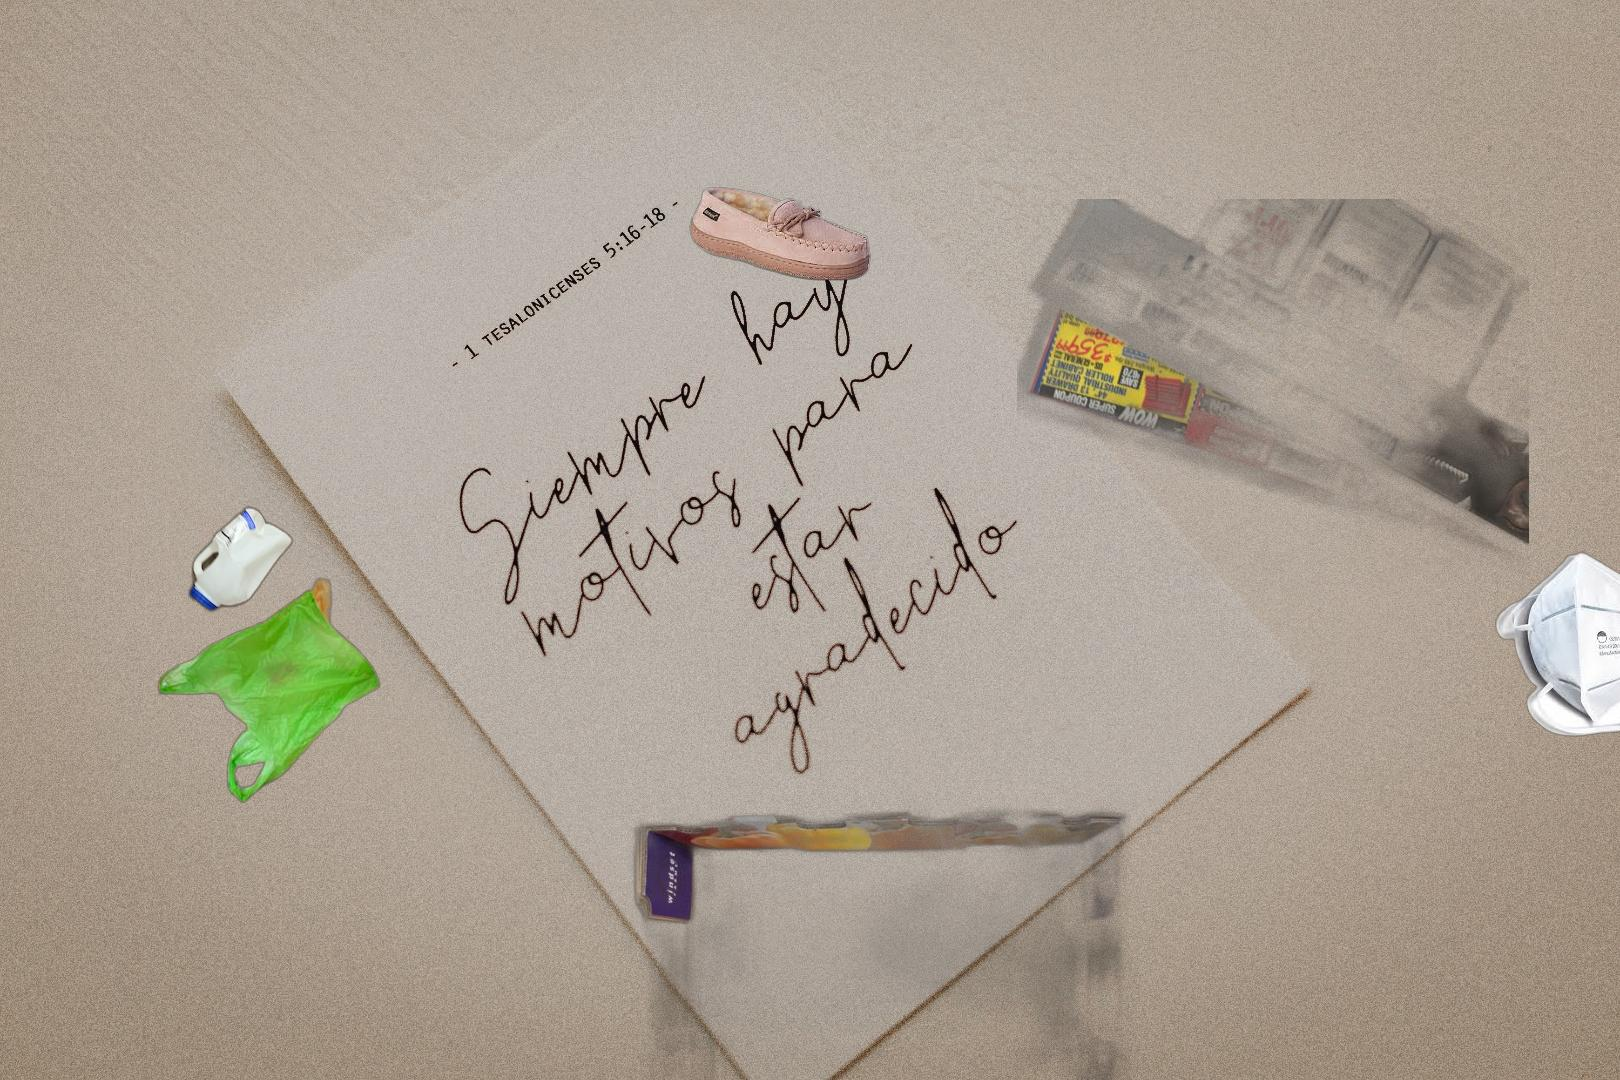paper: (1017, 199, 1530, 583)
plastic-bag: (155, 576, 383, 804)
plastic-bottles: (184, 501, 297, 617)
shoes: (687, 184, 873, 283)
trash: (1492, 550, 1620, 739)
trashbox-cardboard: (628, 793, 1140, 1080)
